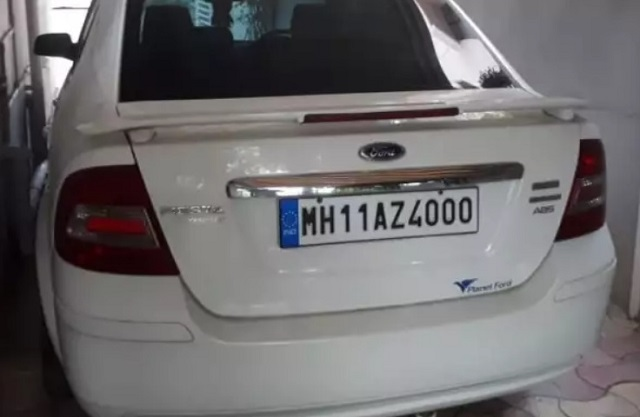licenseplate: (271, 184, 484, 251)
